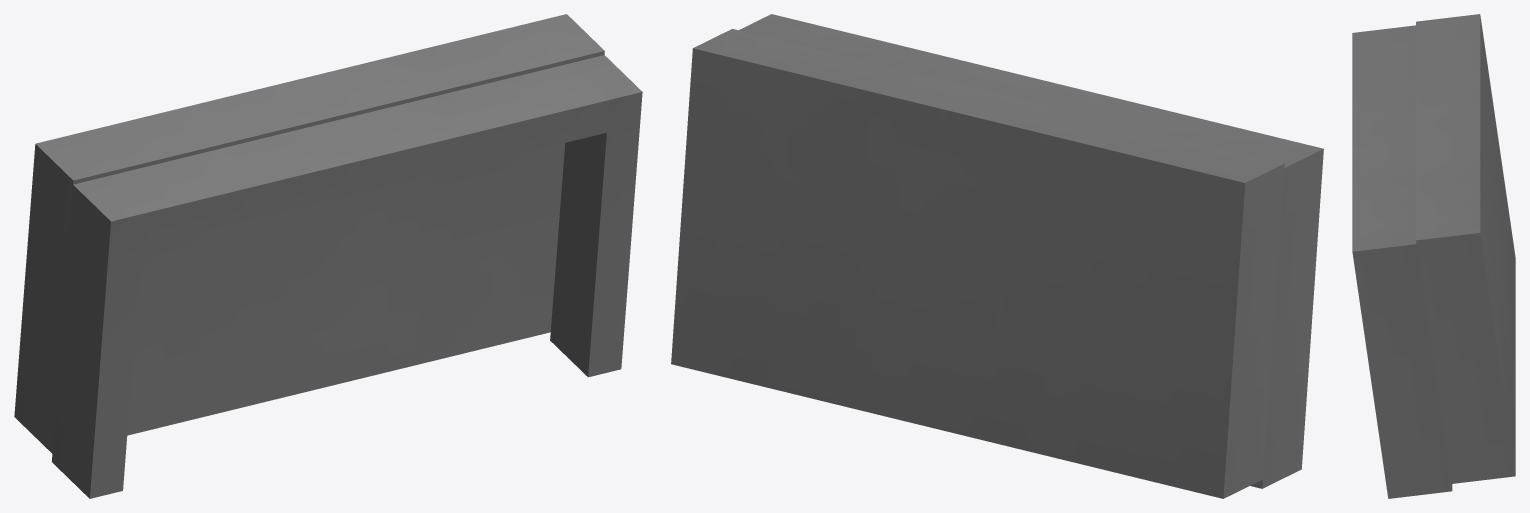
File: dc_metro_arch_c4.obj
3 renders of one model, left to right at view 1: azimuth 30°, elevation 25°; view 2: azimuth 150°, elevation 25°; view 3: azimuth 270°, elevation 25°, orthographic. The views are drawn at different scales.
Visible parts, largest first — view 1: part4; view 2: part4; view 3: part4.
Boxes of the visible parts, x1=… form: part4: x1=14, y1=14, x2=642, y2=498; part4: x1=671, y1=14, x2=1323, y2=498; part4: x1=1352, y1=14, x2=1515, y2=498.
Bounding box in the file's own units: 2 × 1.13 × 0.6303.
Materials: 1 (1 with a texture image).
